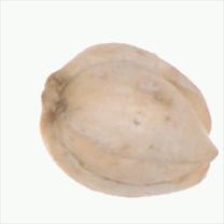L1: (185, 90, 219, 172), (37, 73, 65, 124)
L2: (40, 41, 216, 198)
